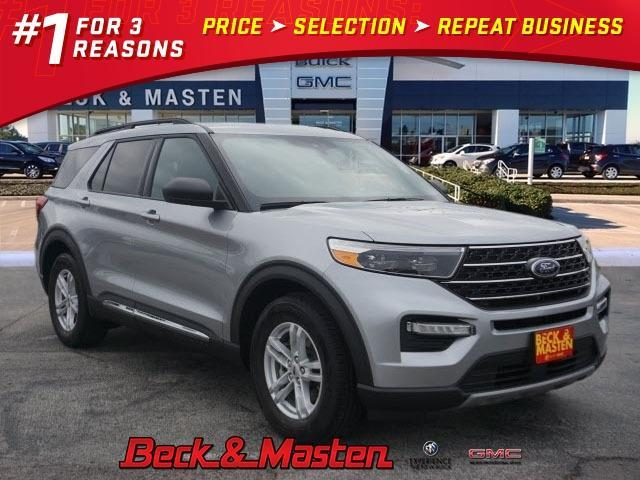Ford Explorer: (31, 113, 615, 442)
